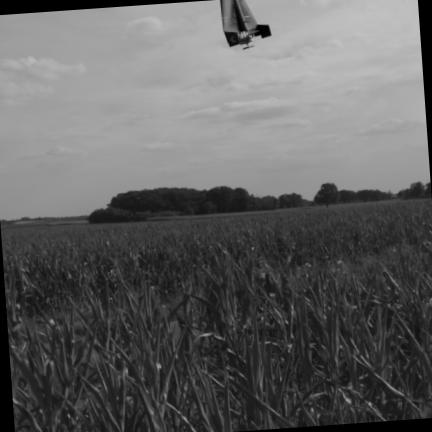Shahed: (221, 0, 270, 48)
